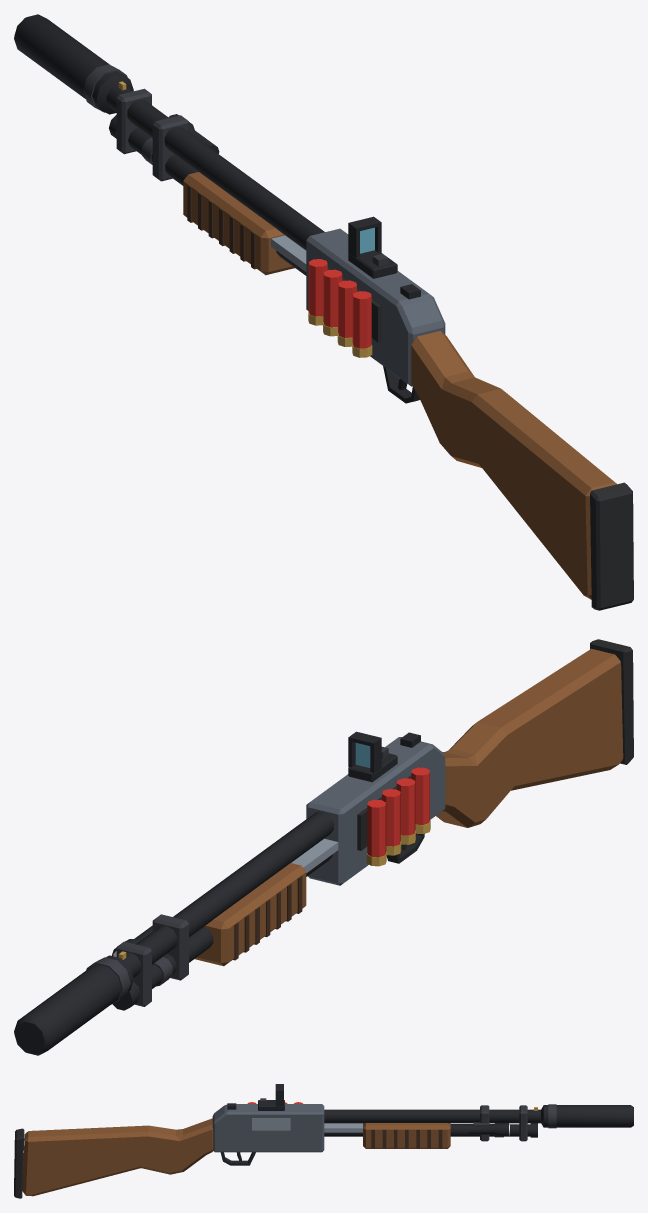
Rendered from pump_shotgun.glb.
The picture shows the model from 3 angles, top to bottom: view 1: azimuth 30°, elevation 25°; view 2: azimuth 150°, elevation 25°; view 3: azimuth 270°, elevation 25°; orthographic projection. The views are drawn at different scales.
Visible parts, largest first — view 1: Body, Att_Suppressor, Att_Scope, Att_ExtMag; view 2: Body, Att_Suppressor, Att_Scope, Att_ExtMag; view 3: Body, Att_Suppressor, Att_ExtMag, Att_Flashlight, Att_Scope.
Part boxes in pixels (x1,y1,x2,y2): Body: (106,81,633,610); Att_Suppressor: (14,14,133,114); Att_Scope: (348,216,397,278); Att_ExtMag: (109,88,151,154); Body: (118,639,633,986); Att_Suppressor: (14,955,133,1055); Att_Scope: (348,731,397,782); Att_ExtMag: (112,941,162,1010); Body: (14,1102,540,1198); Att_Suppressor: (541,1104,633,1128); Att_ExtMag: (509,1105,537,1141); Att_Flashlight: (468,1122,509,1136); Att_Scope: (258,1084,284,1110).
Bounding box in the file's own units: 0.0881 × 0.2293 × 1.2.
